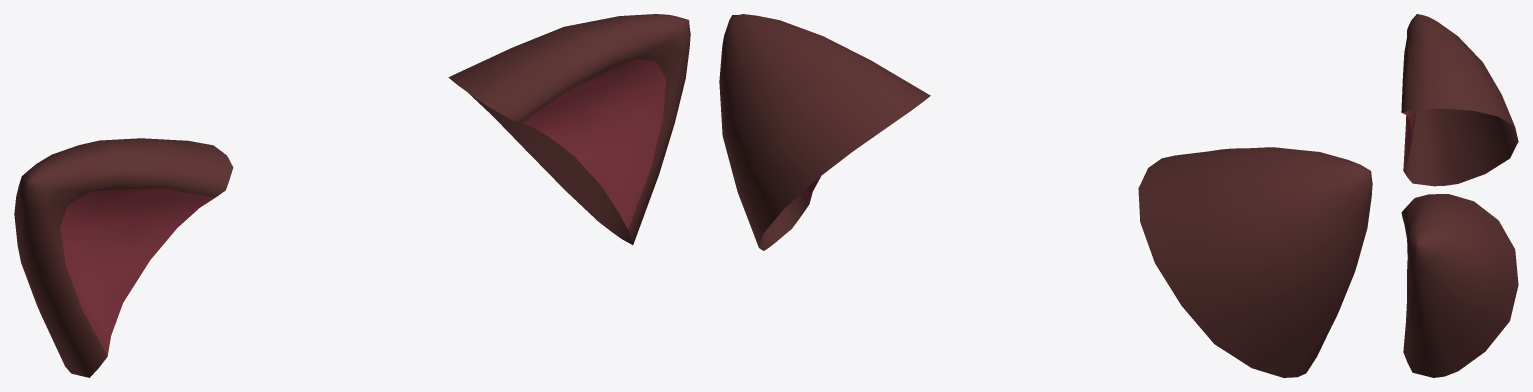
File: Ears_Cat.glb
3 renders of one model, left to right at view 1: azimuth 30°, elevation 25°; view 2: azimuth 150°, elevation 25°; view 3: azimuth 270°, elevation 25°, orthographic. The views are drawn at different scales.
Parts seen in each view (by area): view 1: Ears_Cat; view 2: Ears_Cat; view 3: Ears_Cat.
Part boxes in pixels (bbox=[...]): Ears_Cat: bbox=[14, 14, 690, 377]; Ears_Cat: bbox=[719, 14, 1372, 377]; Ears_Cat: bbox=[1401, 14, 1518, 377].
Size of the model in its own units: 1.15 by 0.3654 by 0.244.
1 material, 1 textured.
